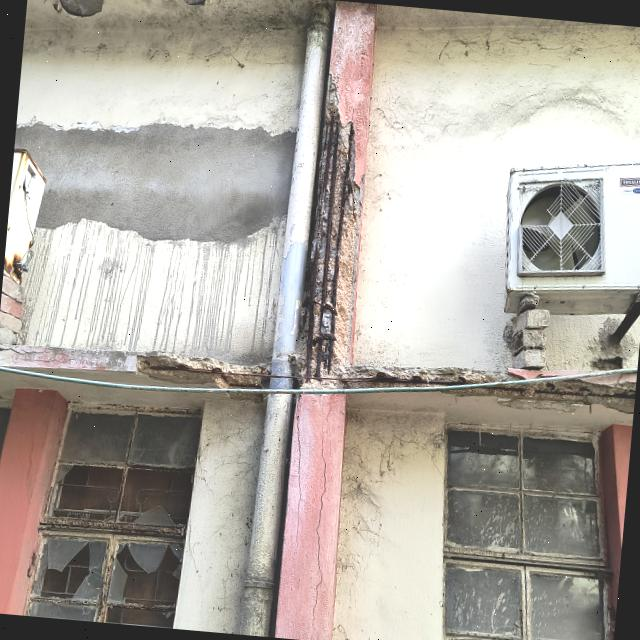Broken window pane: (19, 398, 201, 628)
Corrosion: (13, 147, 46, 190), (3, 252, 25, 283)
Crack: (311, 420, 327, 629), (295, 394, 303, 551)
Incomplete Plaster Work: (14, 124, 295, 241)
Spalling: (296, 74, 361, 378), (291, 366, 636, 404), (136, 355, 269, 394), (136, 354, 269, 387)
